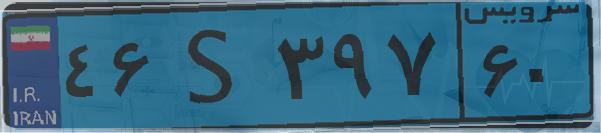0: (525, 38, 570, 115)
3: (270, 28, 330, 110)
4: (57, 26, 110, 100)
6: (475, 38, 525, 113), (110, 28, 158, 98)
7: (385, 28, 445, 110)
9: (330, 28, 385, 110)
S: (158, 12, 270, 120)
